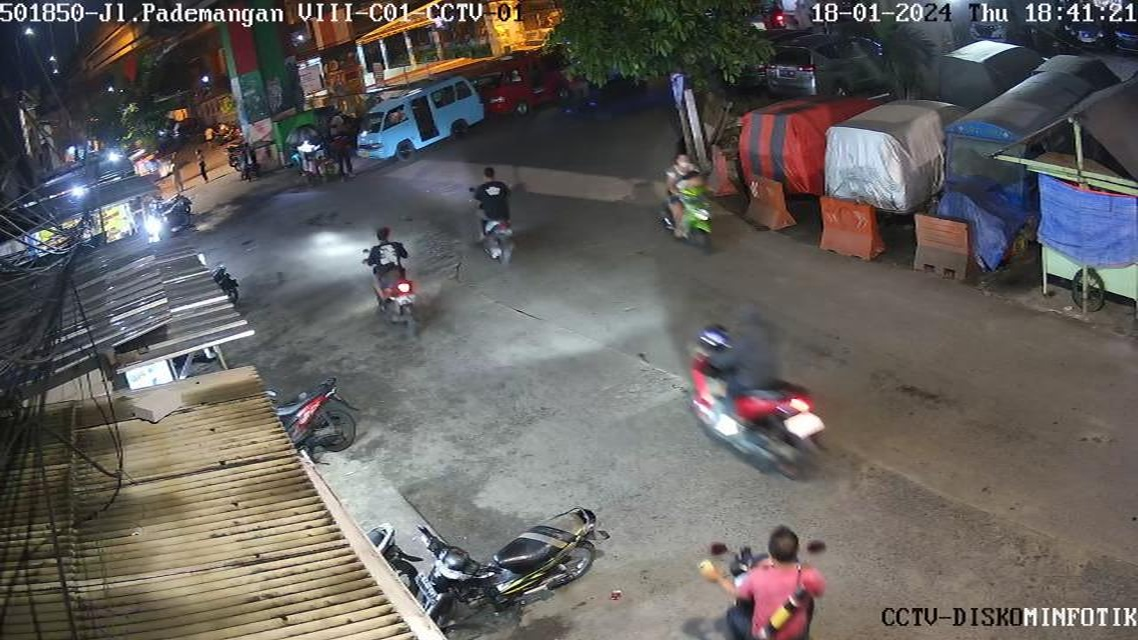Gerobak: (1030, 83, 1138, 310), (933, 118, 1030, 275)
